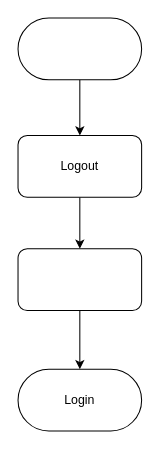
Image size: 160x449. Some labels were removed from this diagram. Here are the shapes that lost their labels. From the top down, the box of each, then its label:
(17, 17, 142, 80): Home Page
(17, 248, 142, 311): Redirect to Login
